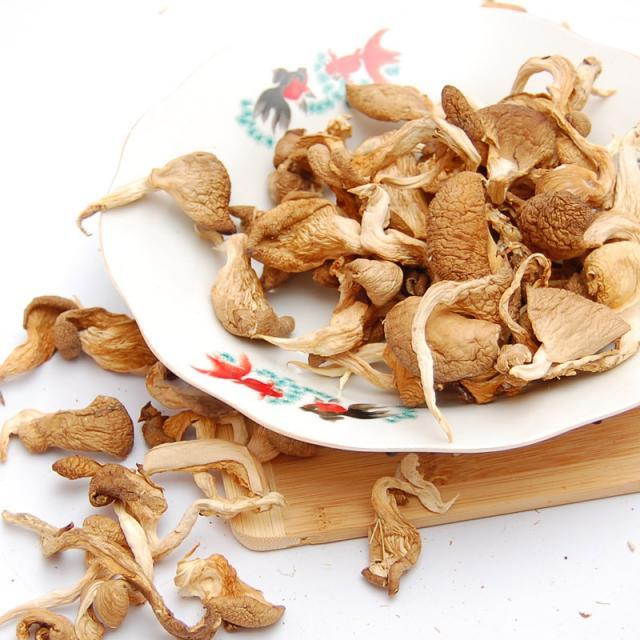Hypsizygus marmoreus: (76, 47, 640, 408), (0, 294, 280, 639), (356, 452, 462, 596)
